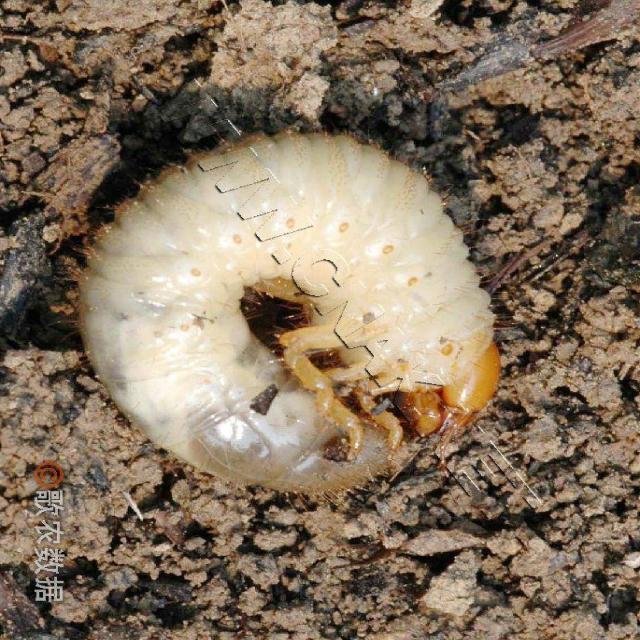grub: (74, 120, 511, 516)
